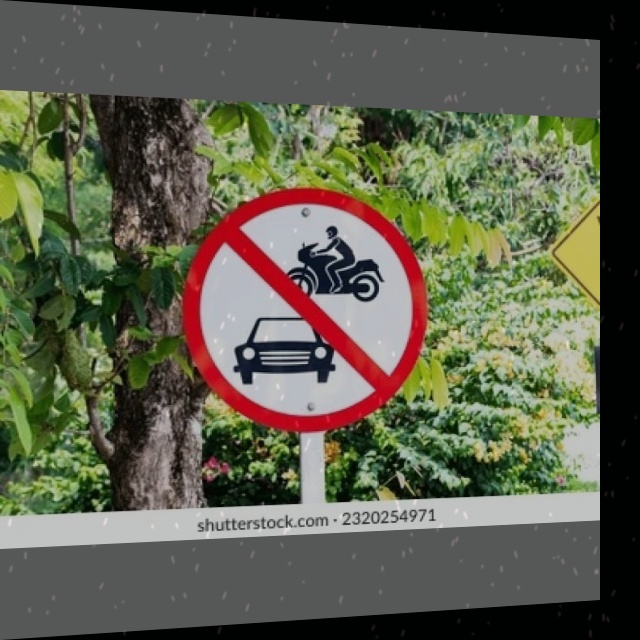All_Motor_Vehicles_Prohibited: (186, 187, 421, 427)
